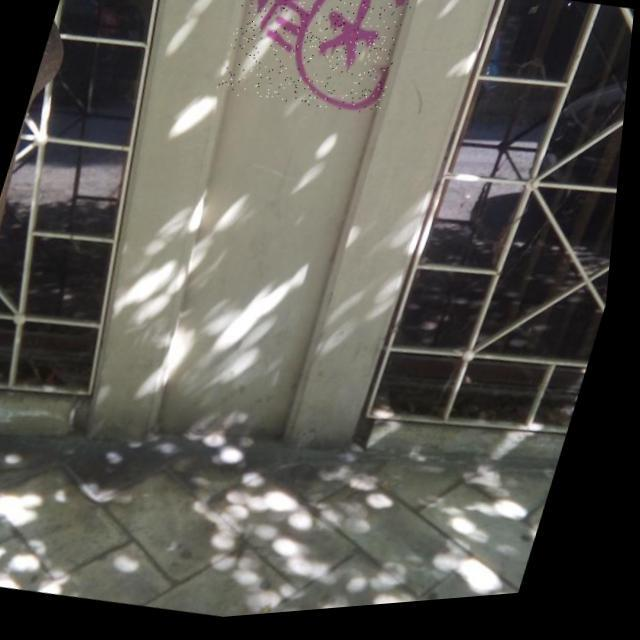-: (214, 0, 419, 132)
